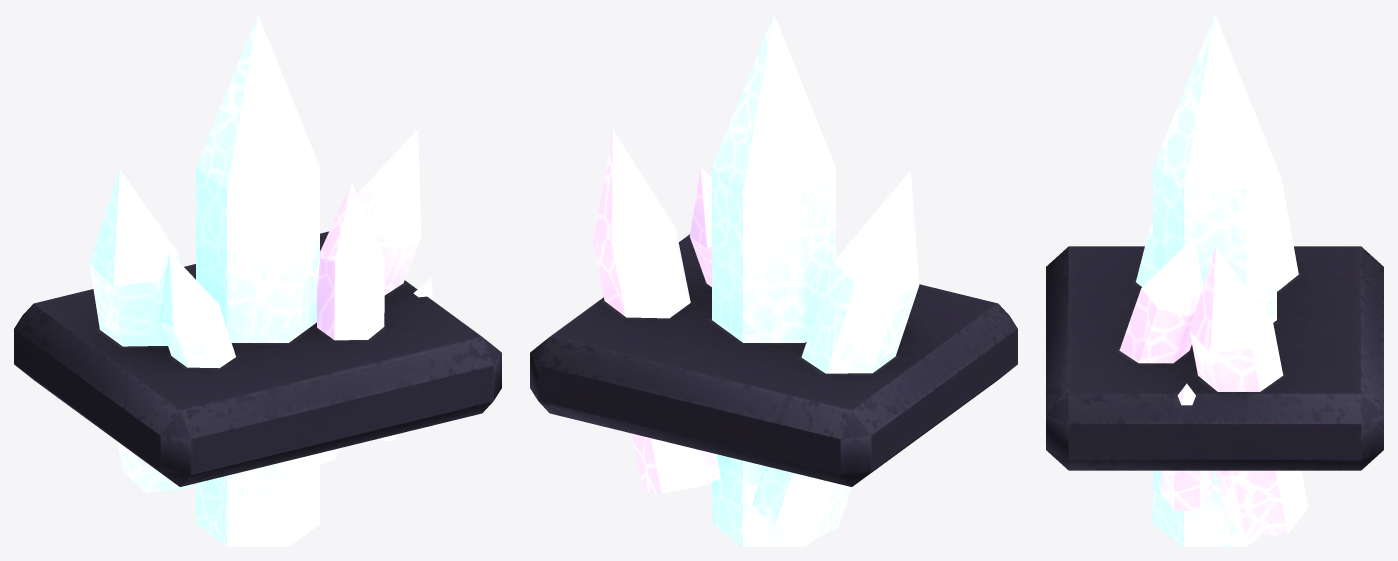
The model's file is cristal_codigo.glb.
3 views of the same model, side by side, from view 1: azimuth 30°, elevation 25°; view 2: azimuth 150°, elevation 25°; view 3: azimuth 270°, elevation 25° (orthographic).
Visible parts, largest first — view 1: cristal_codigo; view 2: cristal_codigo; view 3: cristal_codigo.
Boxes of the visible parts, box(x1,y1,x2,y2) form: cristal_codigo: box(14, 14, 501, 546); cristal_codigo: box(530, 14, 1017, 546); cristal_codigo: box(1046, 14, 1383, 546).
Bounding box in the file's own units: 1.4 × 2 × 1.2.
Materials: 1 (1 with a texture image).
